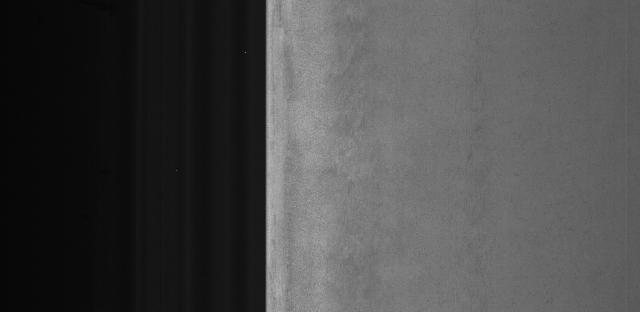silk_spot: (322, 71, 401, 256)
